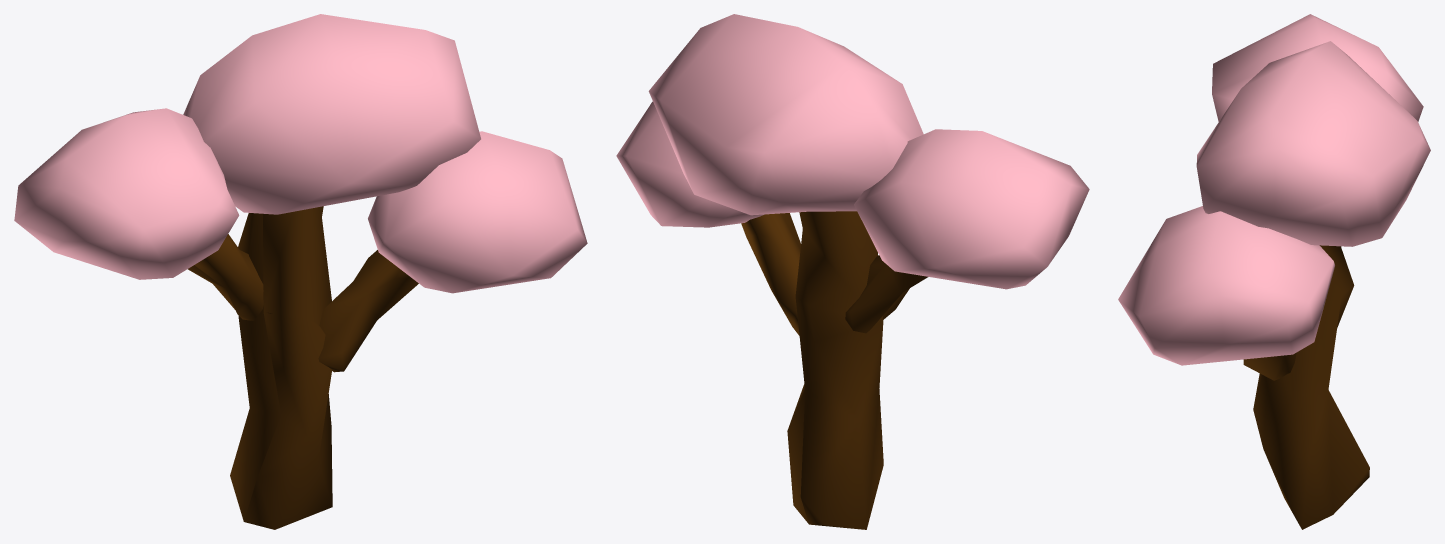
The model's file is Tree3.fbx.
The picture shows the model from 3 angles, left to right: view 1: azimuth 30°, elevation 25°; view 2: azimuth 150°, elevation 25°; view 3: azimuth 270°, elevation 25°; orthographic projection. The views are drawn at different scales.
Visible parts, largest first — view 1: Box005, Box004, Cylinder006, Box006, Cylinder008, Cylinder007; view 2: Box005, Box004, Cylinder006, Box006, Cylinder008, Cylinder007; view 3: Box005, Box006, Cylinder006, Box004, Cylinder008.
Boxes of the visible parts, x1=… form: Box005: x1=183, y1=14, x2=480, y2=214; Box004: x1=14, y1=108, x2=239, y2=279; Cylinder006: x1=230, y1=206, x2=332, y2=529; Box006: x1=368, y1=131, x2=587, y2=293; Cylinder008: x1=318, y1=250, x2=418, y2=372; Cylinder007: x1=188, y1=234, x2=263, y2=320; Box005: x1=648, y1=14, x2=923, y2=215; Box004: x1=854, y1=129, x2=1089, y2=289; Cylinder006: x1=787, y1=211, x2=883, y2=529; Box006: x1=616, y1=101, x2=764, y2=227; Cylinder008: x1=741, y1=213, x2=800, y2=335; Cylinder007: x1=845, y1=255, x2=927, y2=333; Box005: x1=1196, y1=41, x2=1430, y2=246; Box006: x1=1118, y1=206, x2=1334, y2=365; Cylinder006: x1=1253, y1=245, x2=1369, y2=529; Box004: x1=1212, y1=14, x2=1423, y2=121; Cylinder008: x1=1243, y1=352, x2=1296, y2=380.
Size of the model in its own units: 77.76 by 76.75 by 45.99.
1 material, 1 textured.
